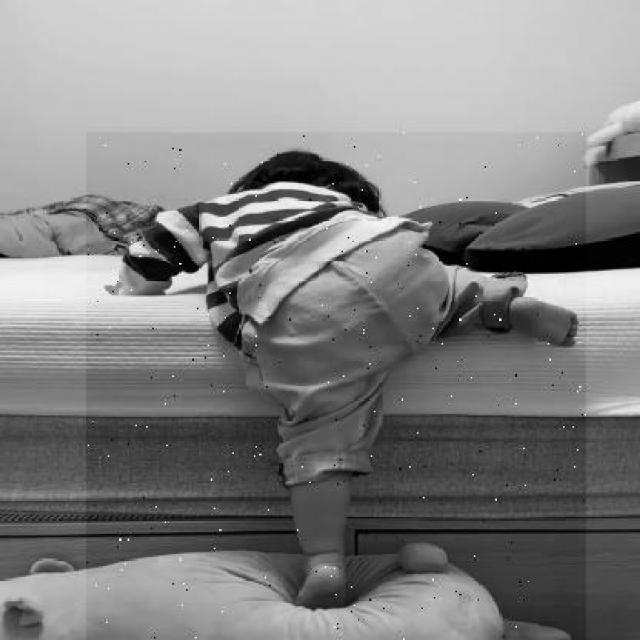child: (86, 132, 586, 640)
